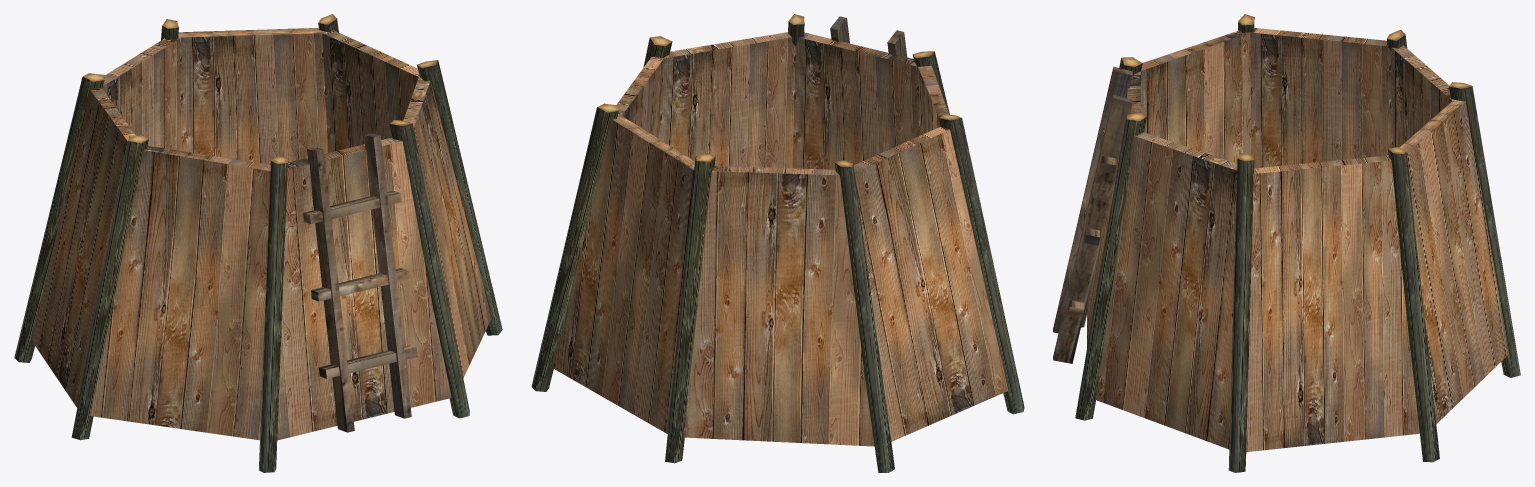
Rendered from building_water_pot.glb.
3 renders of one model, left to right at view 1: azimuth 30°, elevation 25°; view 2: azimuth 150°, elevation 25°; view 3: azimuth 270°, elevation 25°, orthographic.
Parts seen in each view (by area): view 1: building_water_pot; view 2: building_water_pot; view 3: building_water_pot.
Part boxes in pixels (x1,y1,x2,y2): building_water_pot: (14,14,502,472); building_water_pot: (531,14,1024,472); building_water_pot: (1053,14,1520,472).
Bounding box in the file's own units: 3.9 × 2.53 × 3.66.
Materials: 4 (4 with a texture image).
